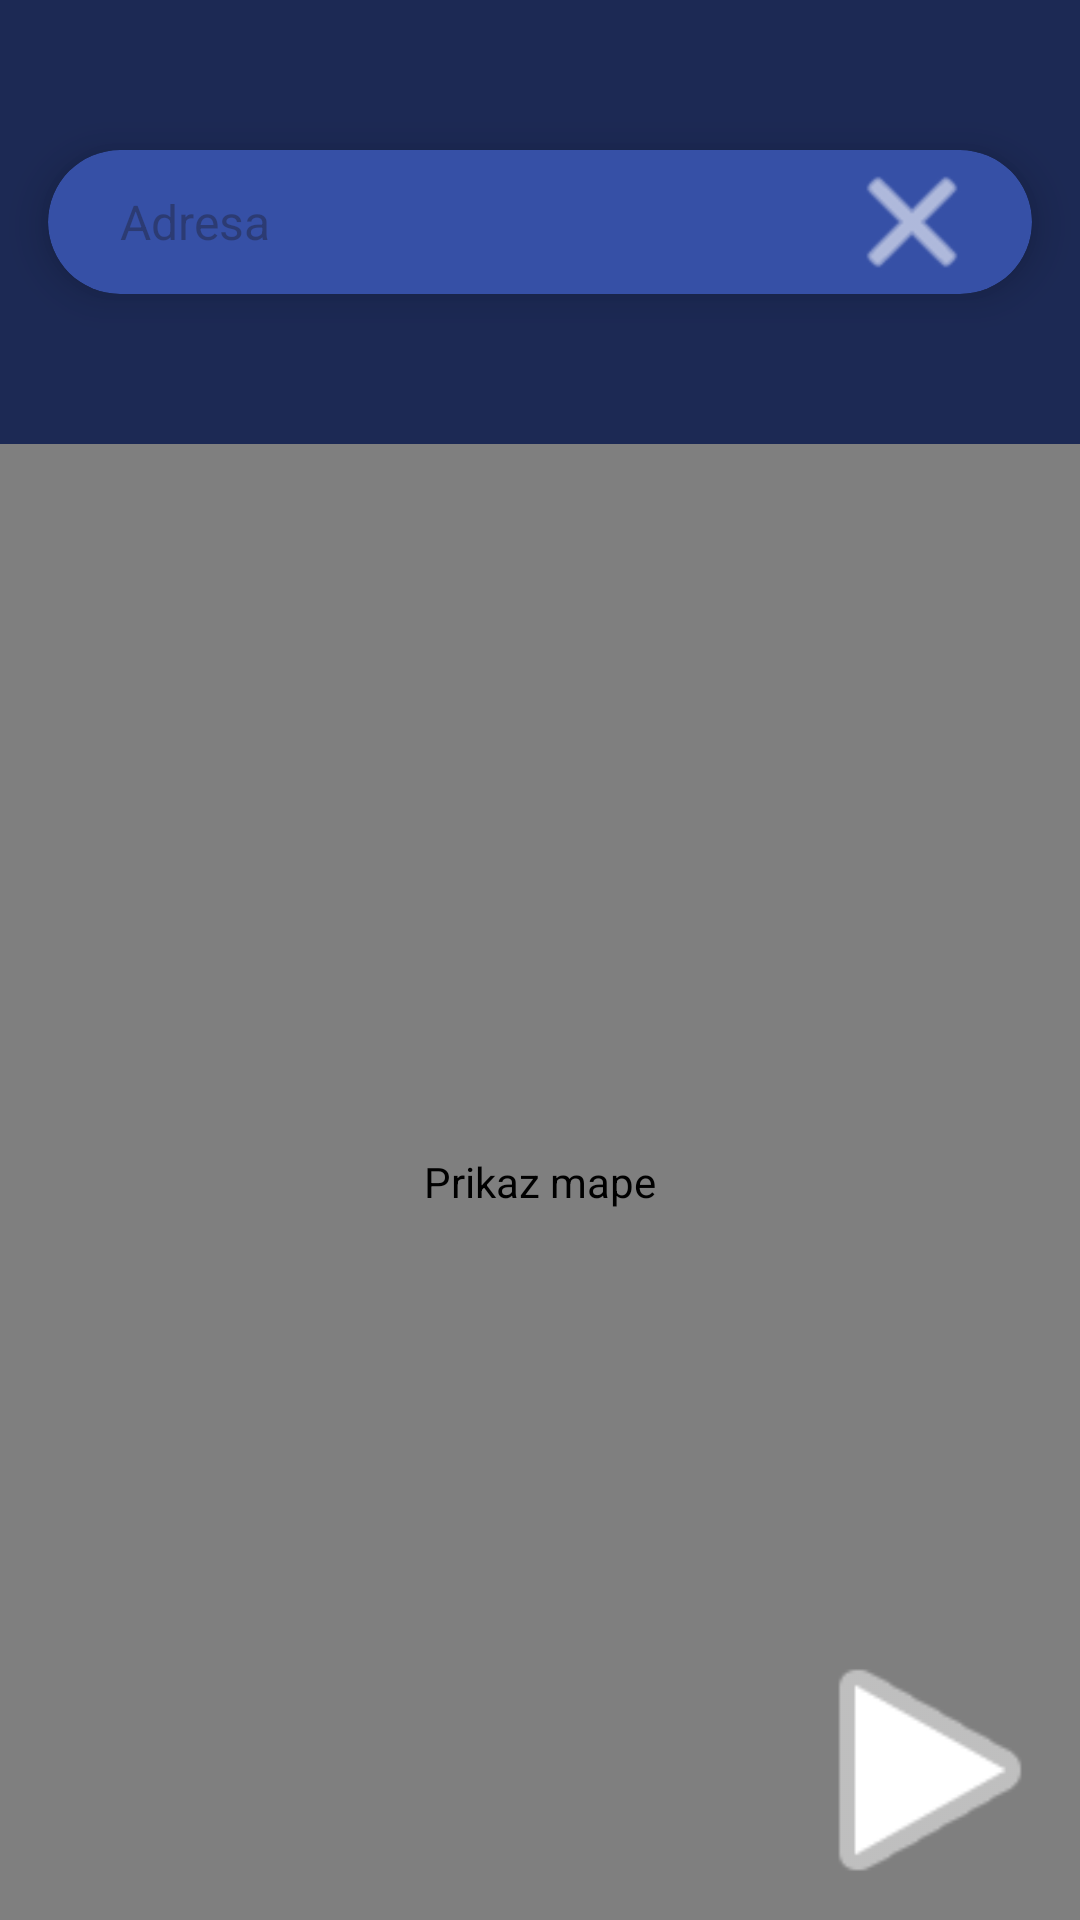

Where icons sit on this 1080 x 1920 app screen, as (x1, y1, x2, y2):
Obriši unos: (867, 177, 957, 267)
